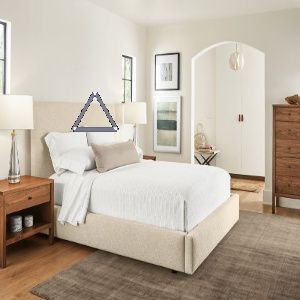triangle: (69, 89, 121, 135)
